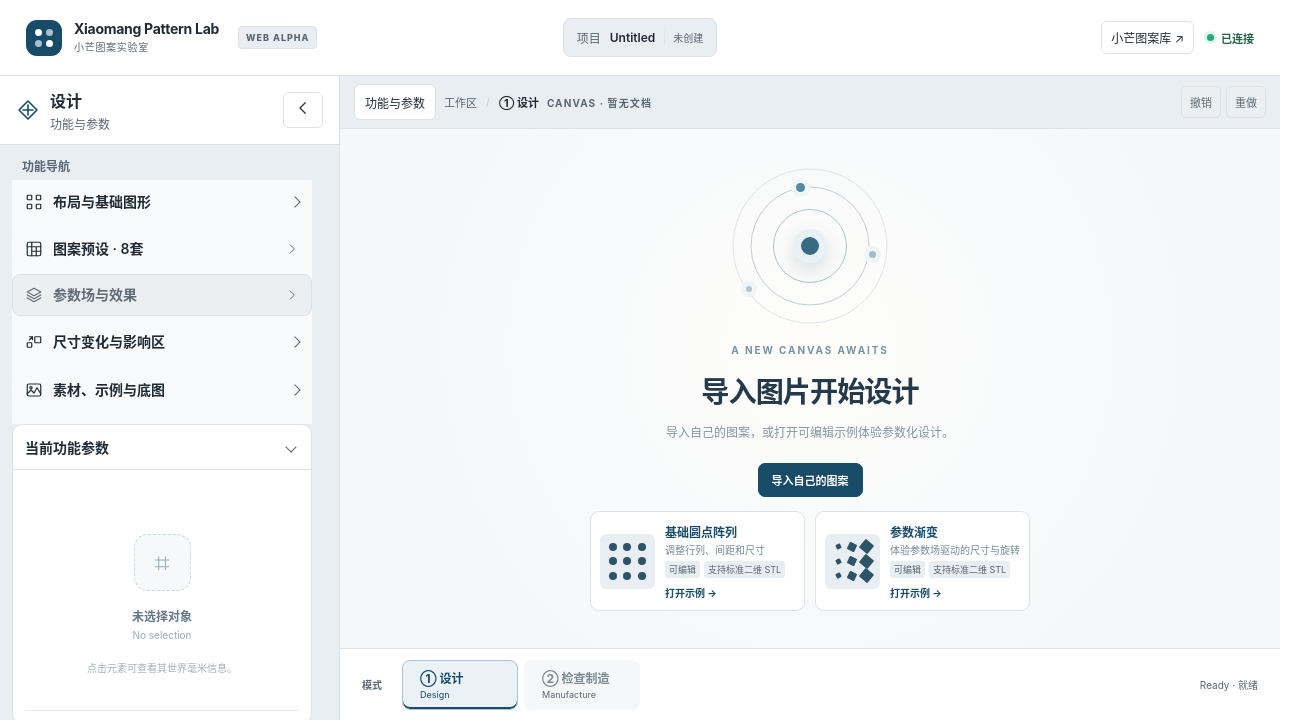
P1 built-in examples › manufactures the original gradient after an edit and Reset Example commit
Expected: the text "支持标准二维 STL" is shown 2 times, [704,561,785,578]; [929,561,1010,578]
Click the button with aria-label "打开示例：参数渐变".
click(922, 561)  # box [815,511,1030,611]
(page scrolled)
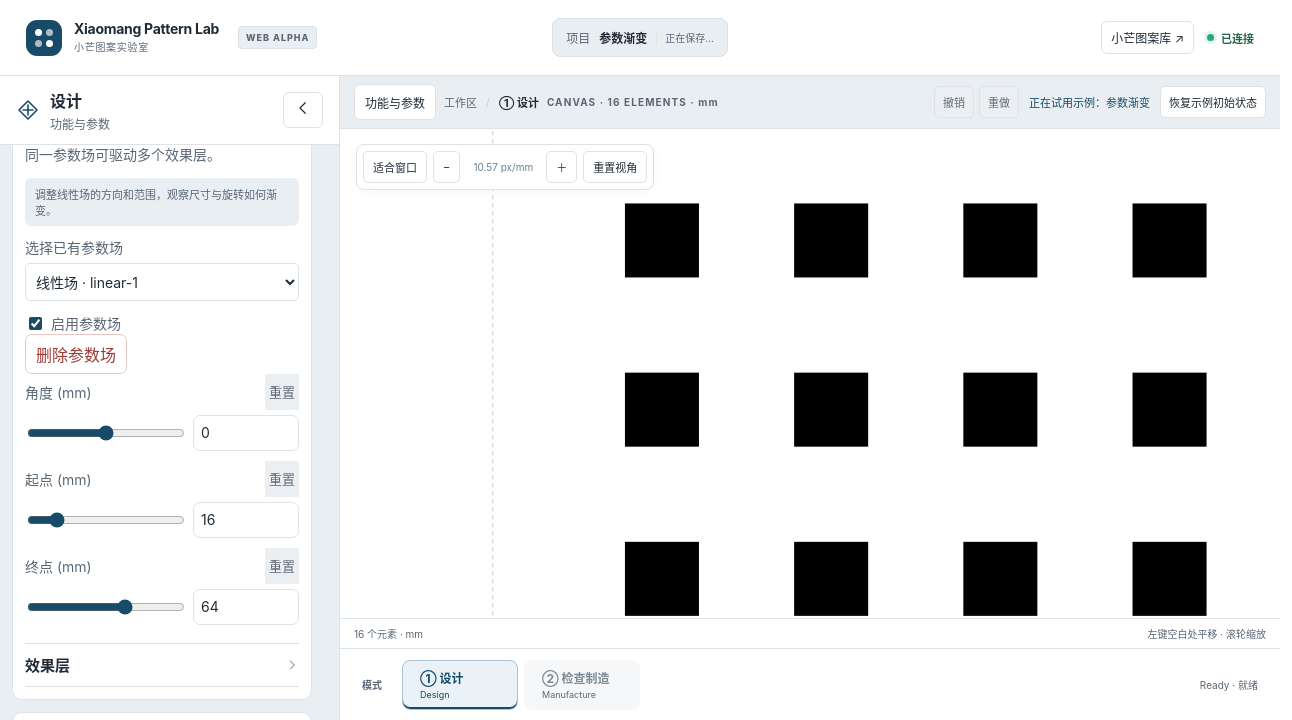
Result: the picture named "最终二维几何，单位毫米" is shown at [340,129,1280,648]
Replace the text in the number field labelled "角度 (mm)" with "25" at (246, 433), box [193,415,299,451]
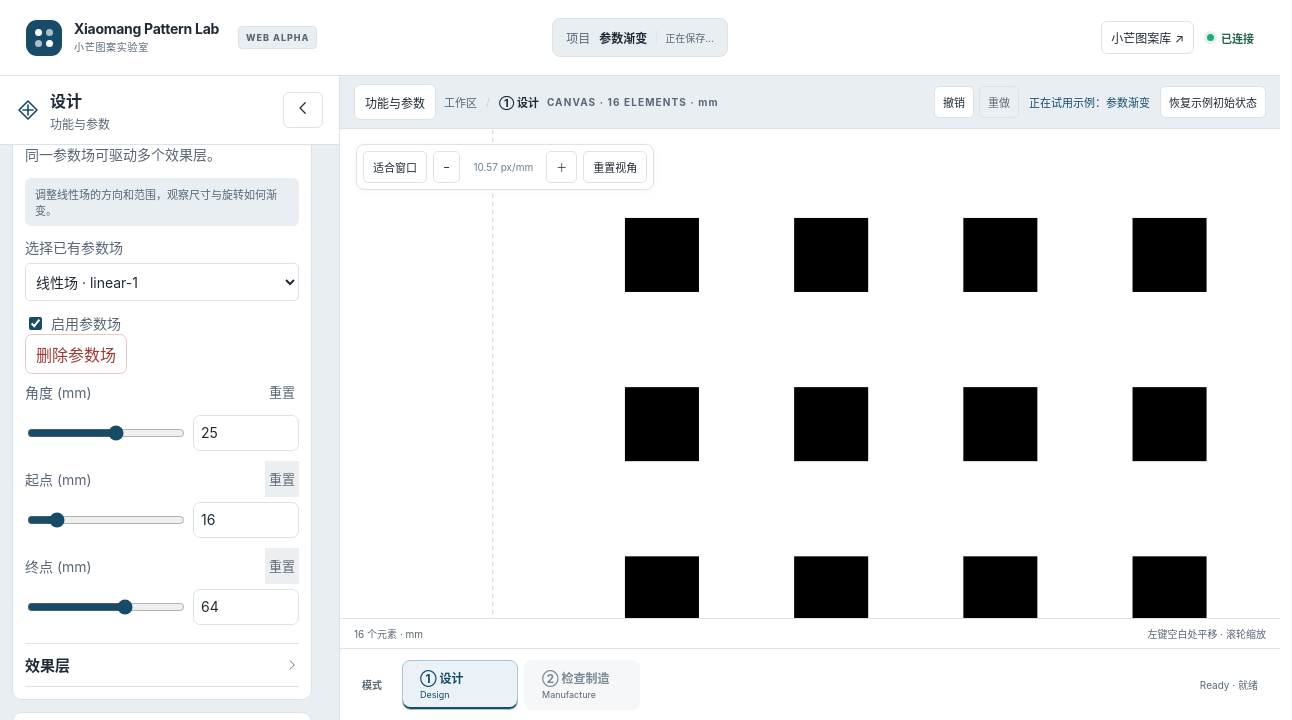
Click the button "恢复示例初始状态".
click(1213, 102)  # box [1160,86,1266,118]
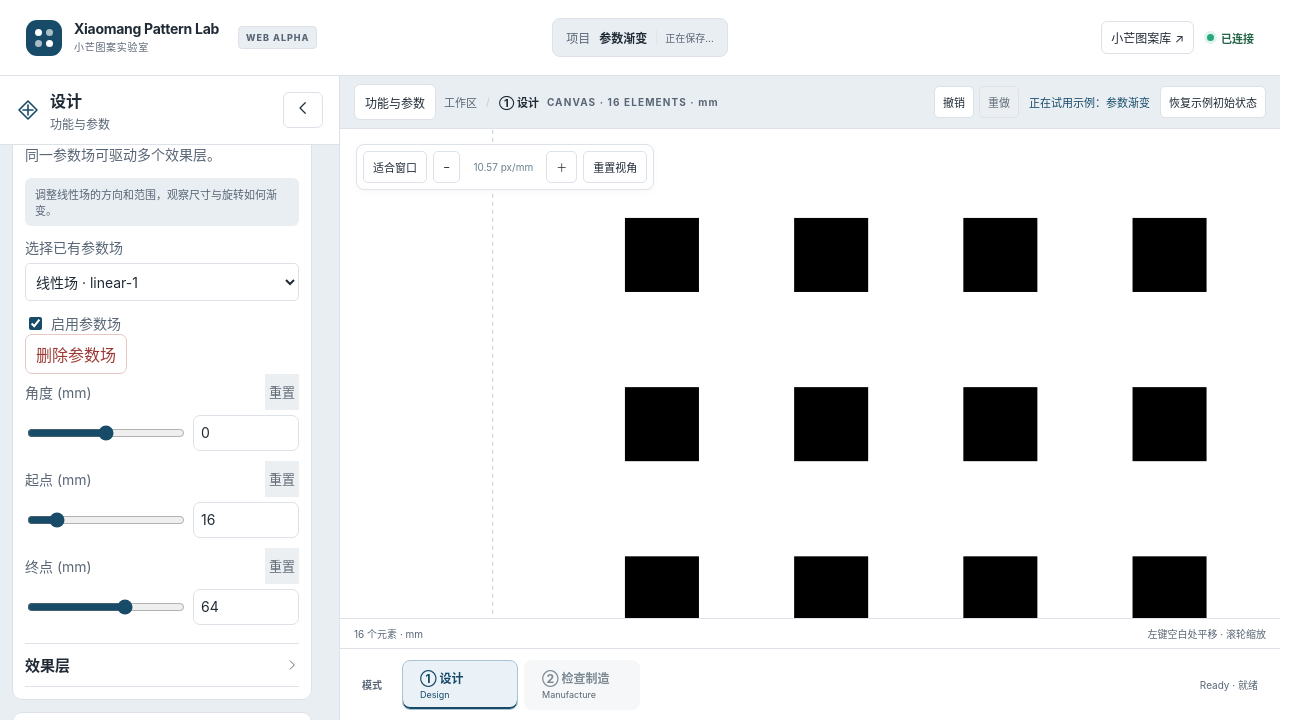
Click the button "② 检查制造 Manufacture".
click(582, 684)  # box [524,660,640,710]
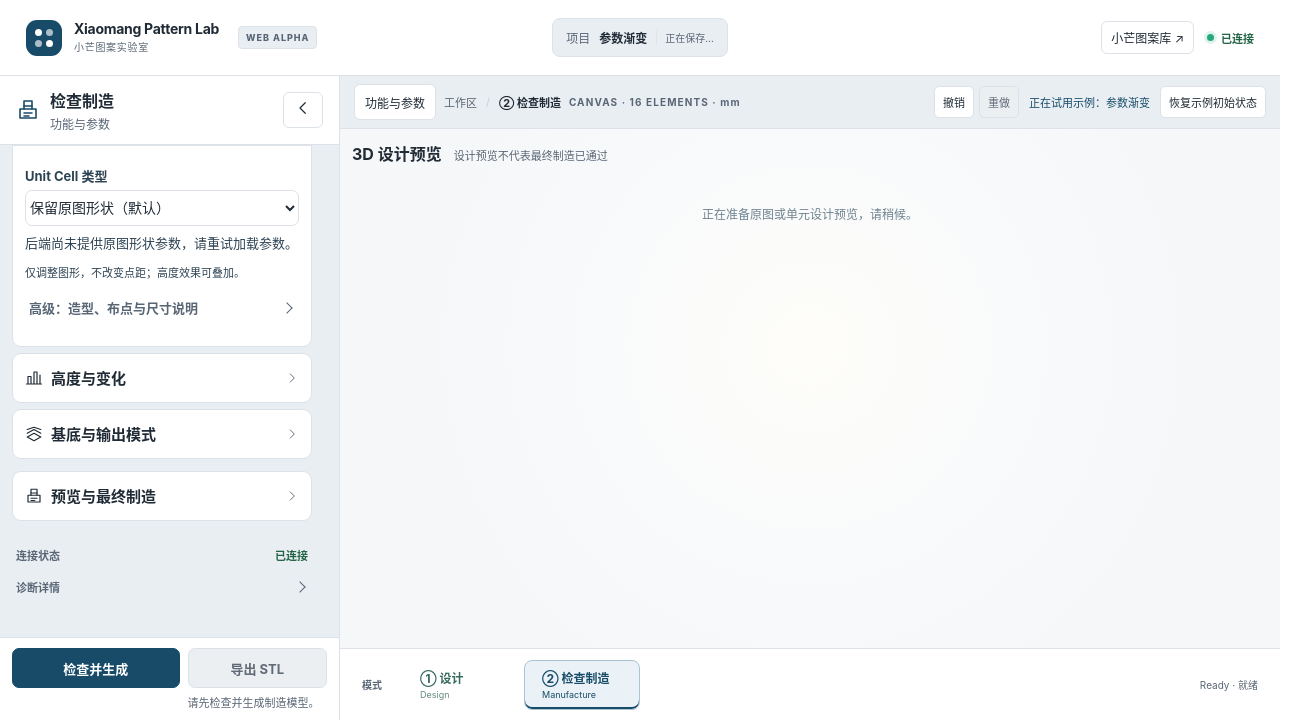
Click the button "检查并生成".
click(96, 668)  # box [12,648,180,688]
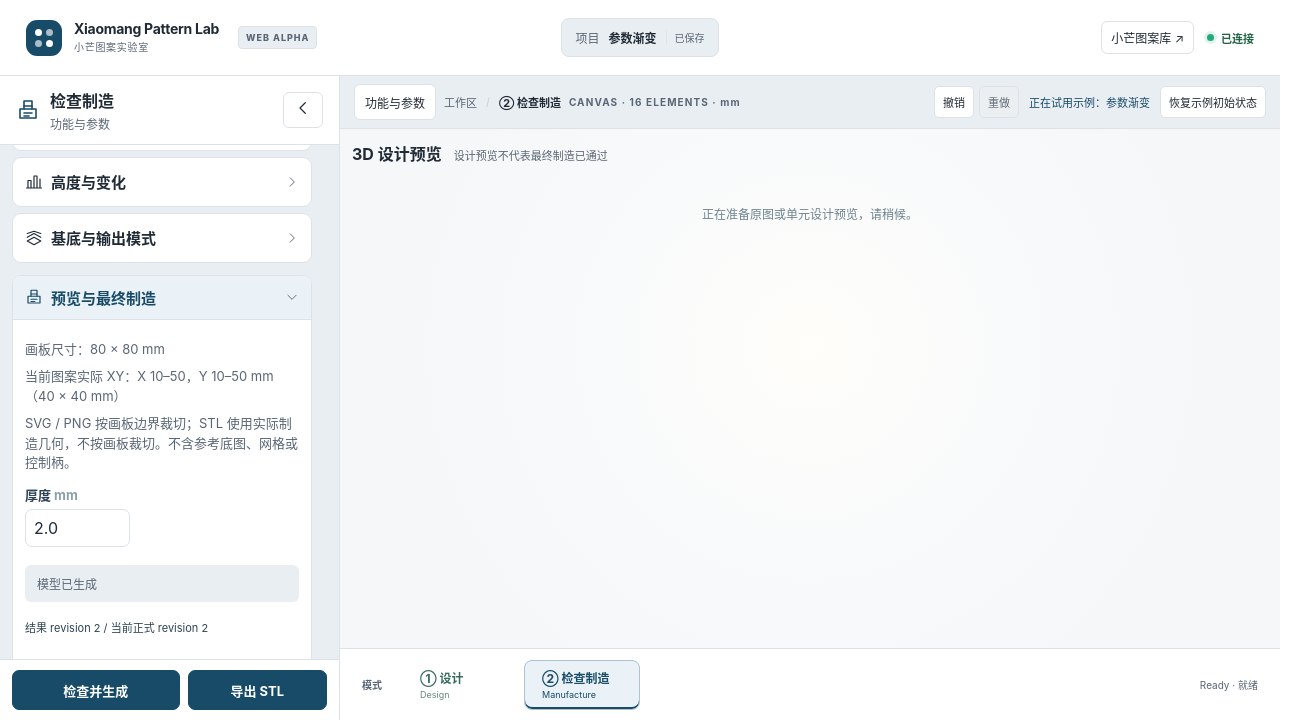
Result: the text "模型已生成" is shown at [25,564,299,602]
Result: the button "导出 STL" is enabled at [188,670,327,710]
